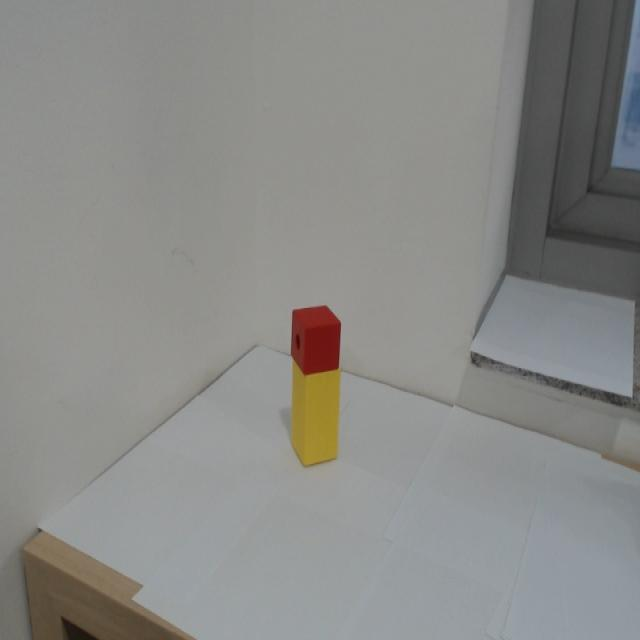cube: (289, 303, 344, 377)
